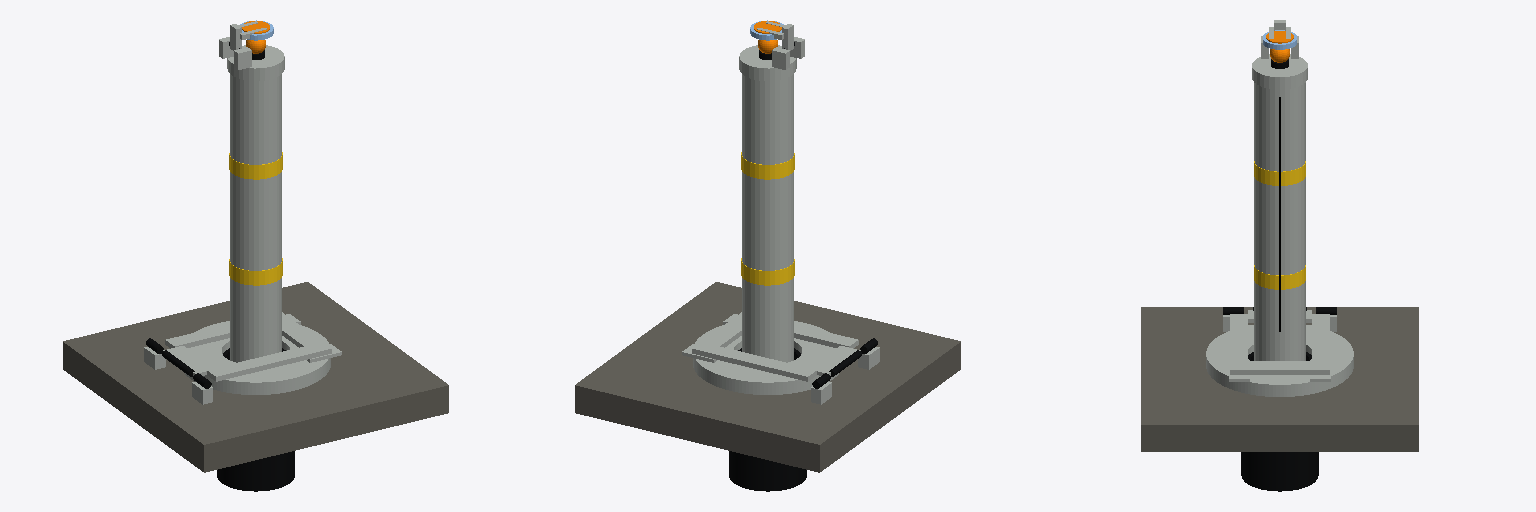
robot.urdf — stainless_retractable_bollard:
<robot name="stainless_retractable_bollard">
  <link name="sleeve">
    <visual name="pavement_opening">
      <geometry>
        <mesh filename="assets/meshes/pavement_with_opening.obj" />
        </geometry>
      <material name="pavement_concrete">
        <color rgba="0.43 0.42 0.39 1" />
        </material>
      </visual>
    <visual name="collar_ring">
      <geometry>
        <mesh filename="assets/meshes/annular_sleeve_collar.obj" />
        </geometry>
      <material name="brushed_stainless">
        <color rgba="0.72 0.74 0.72 1" />
        </material>
      </visual>
    <visual name="sleeve_tube">
      <geometry>
        <mesh filename="assets/meshes/below_grade_sleeve_tube.obj" />
        </geometry>
      <material name="dark_steel">
        <color rgba="0.08 0.085 0.09 1" />
        </material>
      </visual>
    <visual name="flap_ledge_rear">
      <origin xyz="0.165 -0.135 0.051" rpy="0 0 0" />
      <geometry>
        <box size="0.12 0.07 0.012" />
        </geometry>
      <material name="brushed_stainless">
        <color rgba="0.72 0.74 0.72 1" />
        </material>
      </visual>
    <visual name="flap_ledge_front">
      <origin xyz="0.165 0.135 0.051" rpy="0 0 0" />
      <geometry>
        <box size="0.12 0.07 0.012" />
        </geometry>
      <material name="brushed_stainless">
        <color rgba="0.72 0.74 0.72 1" />
        </material>
      </visual>
    <visual name="flap_hinge_stand_rear">
      <origin xyz="-0.29 -0.155 0.026" rpy="0 0 0" />
      <geometry>
        <box size="0.04 0.07 0.052" />
        </geometry>
      <material name="brushed_stainless">
        <color rgba="0.72 0.74 0.72 1" />
        </material>
      </visual>
    <visual name="flap_hinge_knuckle_rear">
      <origin xyz="-0.29 -0.155 0.066" rpy="-1.5708 0 0" />
      <geometry>
        <cylinder radius="0.014" length="0.07" />
        </geometry>
      <material name="dark_steel">
        <color rgba="0.08 0.085 0.09 1" />
        </material>
      </visual>
    <visual name="flap_hinge_stand_front">
      <origin xyz="-0.29 0.155 0.026" rpy="0 0 0" />
      <geometry>
        <box size="0.04 0.07 0.052" />
        </geometry>
      <material name="brushed_stainless">
        <color rgba="0.72 0.74 0.72 1" />
        </material>
      </visual>
    <visual name="flap_hinge_knuckle_front">
      <origin xyz="-0.29 0.155 0.066" rpy="-1.5708 0 0" />
      <geometry>
        <cylinder radius="0.014" length="0.07" />
        </geometry>
      <material name="dark_steel">
        <color rgba="0.08 0.085 0.09 1" />
        </material>
      </visual>
    <collision name="pavement_opening">
      <geometry>
        <mesh filename="assets/meshes/pavement_with_opening.obj" />
        </geometry>
      </collision>
    <collision name="collar_ring">
      <geometry>
        <mesh filename="assets/meshes/annular_sleeve_collar.obj" />
        </geometry>
      </collision>
    <collision name="sleeve_tube">
      <geometry>
        <mesh filename="assets/meshes/below_grade_sleeve_tube.obj" />
        </geometry>
      </collision>
    <collision name="flap_ledge_rear">
      <origin xyz="0.165 -0.135 0.051" rpy="0 0 0" />
      <geometry>
        <box size="0.12 0.07 0.012" />
        </geometry>
      </collision>
    <collision name="flap_ledge_front">
      <origin xyz="0.165 0.135 0.051" rpy="0 0 0" />
      <geometry>
        <box size="0.12 0.07 0.012" />
        </geometry>
      </collision>
    <collision name="flap_hinge_stand_rear">
      <origin xyz="-0.29 -0.155 0.026" rpy="0 0 0" />
      <geometry>
        <box size="0.04 0.07 0.052" />
        </geometry>
      </collision>
    <collision name="flap_hinge_knuckle_rear">
      <origin xyz="-0.29 -0.155 0.066" rpy="-1.5708 0 0" />
      <geometry>
        <cylinder radius="0.014" length="0.07" />
        </geometry>
      </collision>
    <collision name="flap_hinge_stand_front">
      <origin xyz="-0.29 0.155 0.026" rpy="0 0 0" />
      <geometry>
        <box size="0.04 0.07 0.052" />
        </geometry>
      </collision>
    <collision name="flap_hinge_knuckle_front">
      <origin xyz="-0.29 0.155 0.066" rpy="-1.5708 0 0" />
      <geometry>
        <cylinder radius="0.014" length="0.07" />
        </geometry>
      </collision>
    </link>
  <link name="post">
    <visual name="post_body">
      <origin xyz="0 0 0.36" rpy="0 0 0" />
      <geometry>
        <cylinder radius="0.085" length="1.3" />
        </geometry>
      <material name="brushed_stainless">
        <color rgba="0.72 0.74 0.72 1" />
        </material>
      </visual>
    <visual name="lower_guide_ring">
      <origin xyz="0 0 -0.245" rpy="0 0 0" />
      <geometry>
        <cylinder radius="0.098" length="0.055" />
        </geometry>
      <material name="dark_steel">
        <color rgba="0.08 0.085 0.09 1" />
        </material>
      </visual>
    <visual name="crown_cap">
      <origin xyz="0 0 1.0325" rpy="0 0 0" />
      <geometry>
        <cylinder radius="0.093" length="0.045" />
        </geometry>
      <material name="brushed_stainless">
        <color rgba="0.72 0.74 0.72 1" />
        </material>
      </visual>
    <visual name="reflective_band_30">
      <origin xyz="0 0 0.3" rpy="0 0 0" />
      <geometry>
        <cylinder radius="0.087" length="0.052" />
        </geometry>
      <material name="yellow_reflective_band">
        <color rgba="1 0.82 0.12 1" />
        </material>
      </visual>
    <visual name="reflective_band_68">
      <origin xyz="0 0 0.68" rpy="0 0 0" />
      <geometry>
        <cylinder radius="0.087" length="0.052" />
        </geometry>
      <material name="yellow_reflective_band">
        <color rgba="1 0.82 0.12 1" />
        </material>
      </visual>
    <visual name="post_seam">
      <origin xyz="0.087 0 0.55" rpy="0 0 0" />
      <geometry>
        <box size="0.006 0.006 0.86" />
        </geometry>
      <material name="black_rubber">
        <color rgba="0.015 0.014 0.012 1" />
        </material>
      </visual>
    <visual name="light_base">
      <origin xyz="0 0 1.065" rpy="0 0 0" />
      <geometry>
        <cylinder radius="0.03" length="0.02" />
        </geometry>
      <material name="dark_steel">
        <color rgba="0.08 0.085 0.09 1" />
        </material>
      </visual>
    <visual name="warning_light">
      <origin xyz="0 0 1.1" rpy="0 0 0" />
      <geometry>
        <sphere radius="0.034" />
        </geometry>
      <material name="amber_warning_lens">
        <color rgba="1 0.56 0.05 0.75" />
        </material>
      </visual>
    <visual name="light_hinge_stand_0">
      <origin xyz="-0.077 -0.05 1.085" rpy="0 0 0" />
      <geometry>
        <box size="0.052 0.028 0.06" />
        </geometry>
      <material name="brushed_stainless">
        <color rgba="0.72 0.74 0.72 1" />
        </material>
      </visual>
    <visual name="light_hinge_stand_1">
      <origin xyz="-0.077 0.05 1.085" rpy="0 0 0" />
      <geometry>
        <box size="0.052 0.028 0.06" />
        </geometry>
      <material name="brushed_stainless">
        <color rgba="0.72 0.74 0.72 1" />
        </material>
      </visual>
    <visual name="light_hinge_knuckle_0">
      <origin xyz="-0.075 -0.05 1.103" rpy="-1.5708 0 0" />
      <geometry>
        <cylinder radius="0.007" length="0.026" />
        </geometry>
      <material name="dark_steel">
        <color rgba="0.08 0.085 0.09 1" />
        </material>
      </visual>
    <visual name="light_hinge_knuckle_1">
      <origin xyz="-0.075 0.05 1.103" rpy="-1.5708 0 0" />
      <geometry>
        <cylinder radius="0.007" length="0.026" />
        </geometry>
      <material name="dark_steel">
        <color rgba="0.08 0.085 0.09 1" />
        </material>
      </visual>
    <collision name="post_body">
      <origin xyz="0 0 0.36" rpy="0 0 0" />
      <geometry>
        <cylinder radius="0.085" length="1.3" />
        </geometry>
      </collision>
    <collision name="lower_guide_ring">
      <origin xyz="0 0 -0.245" rpy="0 0 0" />
      <geometry>
        <cylinder radius="0.098" length="0.055" />
        </geometry>
      </collision>
    <collision name="crown_cap">
      <origin xyz="0 0 1.0325" rpy="0 0 0" />
      <geometry>
        <cylinder radius="0.093" length="0.045" />
        </geometry>
      </collision>
    <collision name="reflective_band_30">
      <origin xyz="0 0 0.3" rpy="0 0 0" />
      <geometry>
        <cylinder radius="0.087" length="0.052" />
        </geometry>
      </collision>
    <collision name="reflective_band_68">
      <origin xyz="0 0 0.68" rpy="0 0 0" />
      <geometry>
        <cylinder radius="0.087" length="0.052" />
        </geometry>
      </collision>
    <collision name="post_seam">
      <origin xyz="0.087 0 0.55" rpy="0 0 0" />
      <geometry>
        <box size="0.006 0.006 0.86" />
        </geometry>
      </collision>
    <collision name="light_base">
      <origin xyz="0 0 1.065" rpy="0 0 0" />
      <geometry>
        <cylinder radius="0.03" length="0.02" />
        </geometry>
      </collision>
    <collision name="warning_light">
      <origin xyz="0 0 1.1" rpy="0 0 0" />
      <geometry>
        <sphere radius="0.034" />
        </geometry>
      </collision>
    <collision name="light_hinge_stand_0">
      <origin xyz="-0.077 -0.05 1.085" rpy="0 0 0" />
      <geometry>
        <box size="0.052 0.028 0.06" />
        </geometry>
      </collision>
    <collision name="light_hinge_stand_1">
      <origin xyz="-0.077 0.05 1.085" rpy="0 0 0" />
      <geometry>
        <box size="0.052 0.028 0.06" />
        </geometry>
      </collision>
    <collision name="light_hinge_knuckle_0">
      <origin xyz="-0.075 -0.05 1.103" rpy="-1.5708 0 0" />
      <geometry>
        <cylinder radius="0.007" length="0.026" />
        </geometry>
      </collision>
    <collision name="light_hinge_knuckle_1">
      <origin xyz="-0.075 0.05 1.103" rpy="-1.5708 0 0" />
      <geometry>
        <cylinder radius="0.007" length="0.026" />
        </geometry>
      </collision>
    </link>
  <link name="sleeve_flap">
    <visual name="flap_hinge_barrel">
      <origin xyz="0 0 0" rpy="-1.5708 0 0" />
      <geometry>
        <cylinder radius="0.012" length="0.178" />
        </geometry>
      <material name="dark_steel">
        <color rgba="0.08 0.085 0.09 1" />
        </material>
      </visual>
    <visual name="flap_hinge_leaf">
      <origin xyz="0.04 0 -0.002" rpy="0 0 0" />
      <geometry>
        <box size="0.075 0.21 0.014" />
        </geometry>
      <material name="brushed_stainless">
        <color rgba="0.72 0.74 0.72 1" />
        </material>
      </visual>
    <visual name="flap_arm_rear">
      <origin xyz="0.2625 -0.135 0" rpy="0 0 0" />
      <geometry>
        <box size="0.435 0.06 0.018" />
        </geometry>
      <material name="brushed_stainless">
        <color rgba="0.72 0.74 0.72 1" />
        </material>
      </visual>
    <visual name="flap_bumper_rear">
      <origin xyz="0.415 -0.135 -0.006" rpy="0 0 0" />
      <geometry>
        <box size="0.045 0.05 0.006" />
        </geometry>
      <material name="black_rubber">
        <color rgba="0.015 0.014 0.012 1" />
        </material>
      </visual>
    <visual name="flap_arm_front">
      <origin xyz="0.2625 0.135 0" rpy="0 0 0" />
      <geometry>
        <box size="0.435 0.06 0.018" />
        </geometry>
      <material name="brushed_stainless">
        <color rgba="0.72 0.74 0.72 1" />
        </material>
      </visual>
    <visual name="flap_bumper_front">
      <origin xyz="0.415 0.135 -0.006" rpy="0 0 0" />
      <geometry>
        <box size="0.045 0.05 0.006" />
        </geometry>
      <material name="black_rubber">
        <color rgba="0.015 0.014 0.012 1" />
        </material>
      </visual>
    <visual name="flap_nose_bridge">
      <origin xyz="0.445 0 0" rpy="0 0 0" />
      <geometry>
        <box size="0.07 0.33 0.018" />
        </geometry>
      <material name="brushed_stainless">
        <color rgba="0.72 0.74 0.72 1" />
        </material>
      </visual>
    <collision name="flap_hinge_barrel">
      <origin xyz="0 0 0" rpy="-1.5708 0 0" />
      <geometry>
        <cylinder radius="0.012" length="0.178" />
        </geometry>
      </collision>
    <collision name="flap_hinge_leaf">
      <origin xyz="0.04 0 -0.002" rpy="0 0 0" />
      <geometry>
        <box size="0.075 0.21 0.014" />
        </geometry>
      </collision>
    <collision name="flap_arm_rear">
      <origin xyz="0.2625 -0.135 0" rpy="0 0 0" />
      <geometry>
        <box size="0.435 0.06 0.018" />
        </geometry>
      </collision>
    <collision name="flap_bumper_rear">
      <origin xyz="0.415 -0.135 -0.006" rpy="0 0 0" />
      <geometry>
        <box size="0.045 0.05 0.006" />
        </geometry>
      </collision>
    <collision name="flap_arm_front">
      <origin xyz="0.2625 0.135 0" rpy="0 0 0" />
      <geometry>
        <box size="0.435 0.06 0.018" />
        </geometry>
      </collision>
    <collision name="flap_bumper_front">
      <origin xyz="0.415 0.135 -0.006" rpy="0 0 0" />
      <geometry>
        <box size="0.045 0.05 0.006" />
        </geometry>
      </collision>
    <collision name="flap_nose_bridge">
      <origin xyz="0.445 0 0" rpy="0 0 0" />
      <geometry>
        <box size="0.07 0.33 0.018" />
        </geometry>
      </collision>
    </link>
  <link name="light_cover">
    <visual name="cover_hinge_barrel">
      <origin xyz="0 0 0" rpy="-1.5708 0 0" />
      <geometry>
        <cylinder radius="0.007" length="0.074" />
        </geometry>
      <material name="dark_steel">
        <color rgba="0.08 0.085 0.09 1" />
        </material>
      </visual>
    <visual name="cover_hinge_tab">
      <origin xyz="0 0 0.034" rpy="0 0 0" />
      <geometry>
        <box size="0.02 0.04 0.086" />
        </geometry>
      <material name="brushed_stainless">
        <color rgba="0.72 0.74 0.72 1" />
        </material>
      </visual>
    <visual name="cover_side_strut_0">
      <origin xyz="0.05 -0.028 0.05" rpy="0 0 0" />
      <geometry>
        <box size="0.095 0.016 0.018" />
        </geometry>
      <material name="brushed_stainless">
        <color rgba="0.72 0.74 0.72 1" />
        </material>
      </visual>
    <visual name="cover_side_strut_1">
      <origin xyz="0.05 0.028 0.05" rpy="0 0 0" />
      <geometry>
        <box size="0.095 0.016 0.018" />
        </geometry>
      <material name="brushed_stainless">
        <color rgba="0.72 0.74 0.72 1" />
        </material>
      </visual>
    <visual name="clear_light_lid">
      <origin xyz="0.075 0 0.045" rpy="0 0 0" />
      <geometry>
        <cylinder radius="0.058" length="0.018" />
        </geometry>
      <material name="clear_smoke_cover">
        <color rgba="0.62 0.78 0.95 0.38" />
        </material>
      </visual>
    <visual name="amber_warning_window">
      <origin xyz="0.075 0 0.056" rpy="0 0 0" />
      <geometry>
        <cylinder radius="0.047" length="0.004" />
        </geometry>
      <material name="amber_warning_lens">
        <color rgba="1 0.56 0.05 0.75" />
        </material>
      </visual>
    <collision name="cover_hinge_barrel">
      <origin xyz="0 0 0" rpy="-1.5708 0 0" />
      <geometry>
        <cylinder radius="0.007" length="0.074" />
        </geometry>
      </collision>
    <collision name="cover_hinge_tab">
      <origin xyz="0 0 0.034" rpy="0 0 0" />
      <geometry>
        <box size="0.02 0.04 0.086" />
        </geometry>
      </collision>
    <collision name="cover_side_strut_0">
      <origin xyz="0.05 -0.028 0.05" rpy="0 0 0" />
      <geometry>
        <box size="0.095 0.016 0.018" />
        </geometry>
      </collision>
    <collision name="cover_side_strut_1">
      <origin xyz="0.05 0.028 0.05" rpy="0 0 0" />
      <geometry>
        <box size="0.095 0.016 0.018" />
        </geometry>
      </collision>
    <collision name="clear_light_lid">
      <origin xyz="0.075 0 0.045" rpy="0 0 0" />
      <geometry>
        <cylinder radius="0.058" length="0.018" />
        </geometry>
      </collision>
    <collision name="amber_warning_window">
      <origin xyz="0.075 0 0.056" rpy="0 0 0" />
      <geometry>
        <cylinder radius="0.047" length="0.004" />
        </geometry>
      </collision>
    </link>
  <joint name="sleeve_to_post" type="prismatic">
    <origin xyz="0 0 0.045" rpy="0 0 0" />
    <parent link="sleeve" />
    <child link="post" />
    <axis xyz="0 0 1" />
    <limit effort="1200" velocity="0.35" lower="-0.5" upper="0" />
    </joint>
  <joint name="sleeve_to_flap" type="revolute">
    <origin xyz="-0.29 0 0.066" rpy="0 0 0" />
    <parent link="sleeve" />
    <child link="sleeve_flap" />
    <axis xyz="0 -1 0" />
    <limit effort="12" velocity="2" lower="0" upper="1.75" />
    </joint>
  <joint name="post_to_light_cover" type="revolute">
    <origin xyz="-0.075 0 1.103" rpy="0 0 0" />
    <parent link="post" />
    <child link="light_cover" />
    <axis xyz="0 -1 0" />
    <limit effort="1.5" velocity="3" lower="0" upper="1.3" />
    </joint>
  </robot>

--- What the picture shows (computed from the rendered views, not written in the file) ---
Views: 3 orthographic renders of the robot side by side, from view 1: azimuth 30°, elevation 25°; view 2: azimuth 150°, elevation 25°; view 3: azimuth 270°, elevation 25°.
Model stainless_retractable_bollard with 4 links and 3 joints (2 revolute, 1 prismatic), rooted at sleeve, posed all joints at 0.
Visible links, largest first — view 1: sleeve, post, sleeve_flap, light_cover; view 2: sleeve, post, sleeve_flap, light_cover; view 3: sleeve, post, sleeve_flap, light_cover.
Link boxes in pixels (x1,y1,x2,y2): sleeve: (63, 282, 448, 491); post: (219, 37, 284, 362); sleeve_flap: (162, 312, 331, 381); light_cover: (229, 20, 273, 50); sleeve: (575, 282, 960, 491); post: (739, 37, 804, 362); sleeve_flap: (692, 312, 861, 381); light_cover: (750, 20, 794, 50); sleeve: (1141, 307, 1418, 491); post: (1252, 36, 1307, 360); sleeve_flap: (1230, 307, 1329, 374); light_cover: (1263, 20, 1296, 49).
Size in the robot's own frame: 0.92 by 0.92 by 1.62 metres.
3 mesh visuals loaded from 3 distinct referenced files (3 OBJ).
